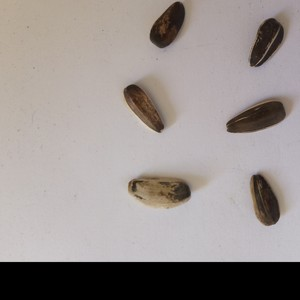girasol: (224, 97, 287, 137), (120, 82, 166, 135), (126, 175, 192, 211), (244, 15, 287, 70), (246, 172, 282, 230), (147, 1, 187, 53)
